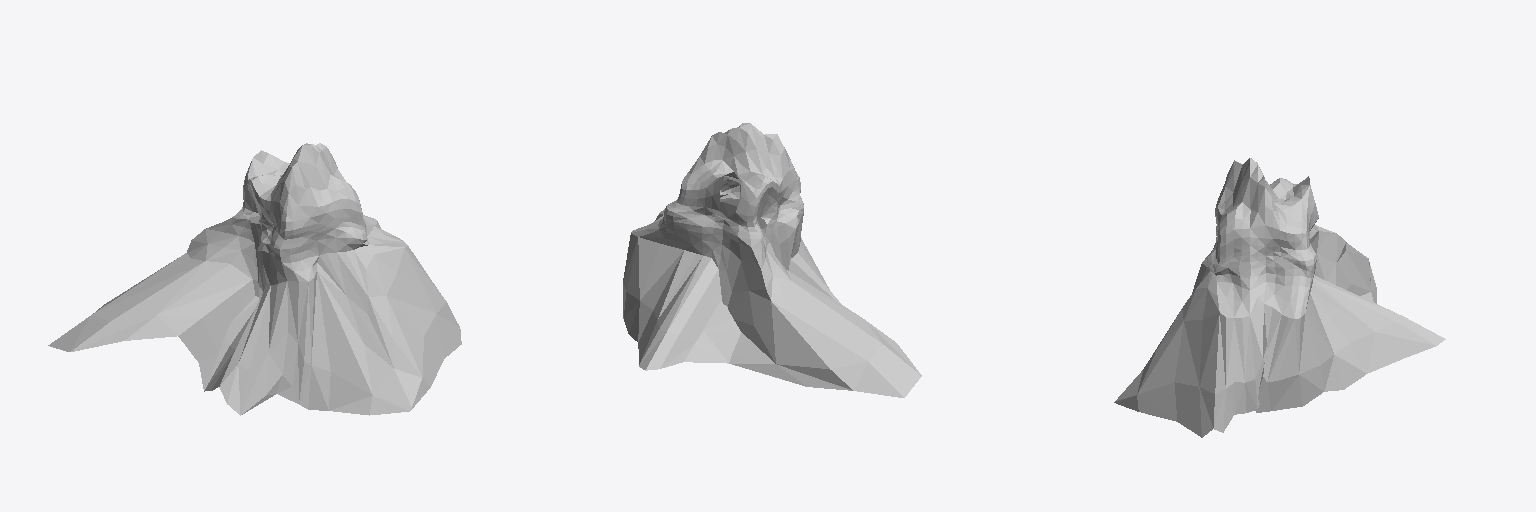
The model's file is ПИИИСщаК.obj.
The picture shows the model from 3 angles: view 1: azimuth 30°, elevation 25°; view 2: azimuth 150°, elevation 25°; view 3: azimuth 270°, elevation 25°; orthographic projection.
Visible parts, largest first — view 1: Cube.002, Cube; view 2: Cube.002, Cube; view 3: Cube.002, Cube.
Part boxes in pixels (left/top/right/bottom): Cube.002: left=48, top=221, right=461, bottom=415; Cube: left=187, top=143, right=407, bottom=299; Cube.002: left=623, top=198, right=921, bottom=397; Cube: left=631, top=123, right=803, bottom=306; Cube.002: left=1114, top=234, right=1445, bottom=437; Cube: left=1202, top=158, right=1336, bottom=318.
Bounding box in the file's own units: 8.74 × 5.53 × 7.29.